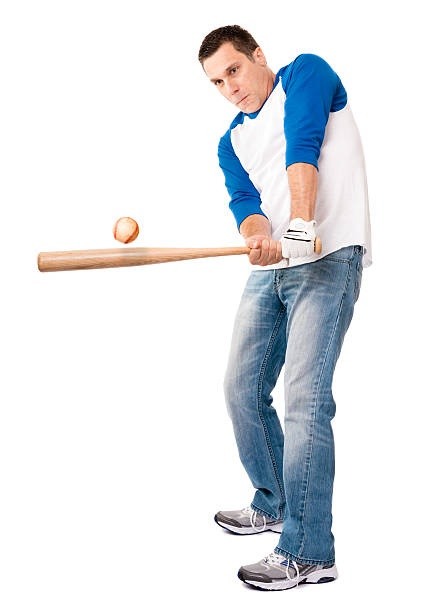bita: (35, 229, 316, 285)
